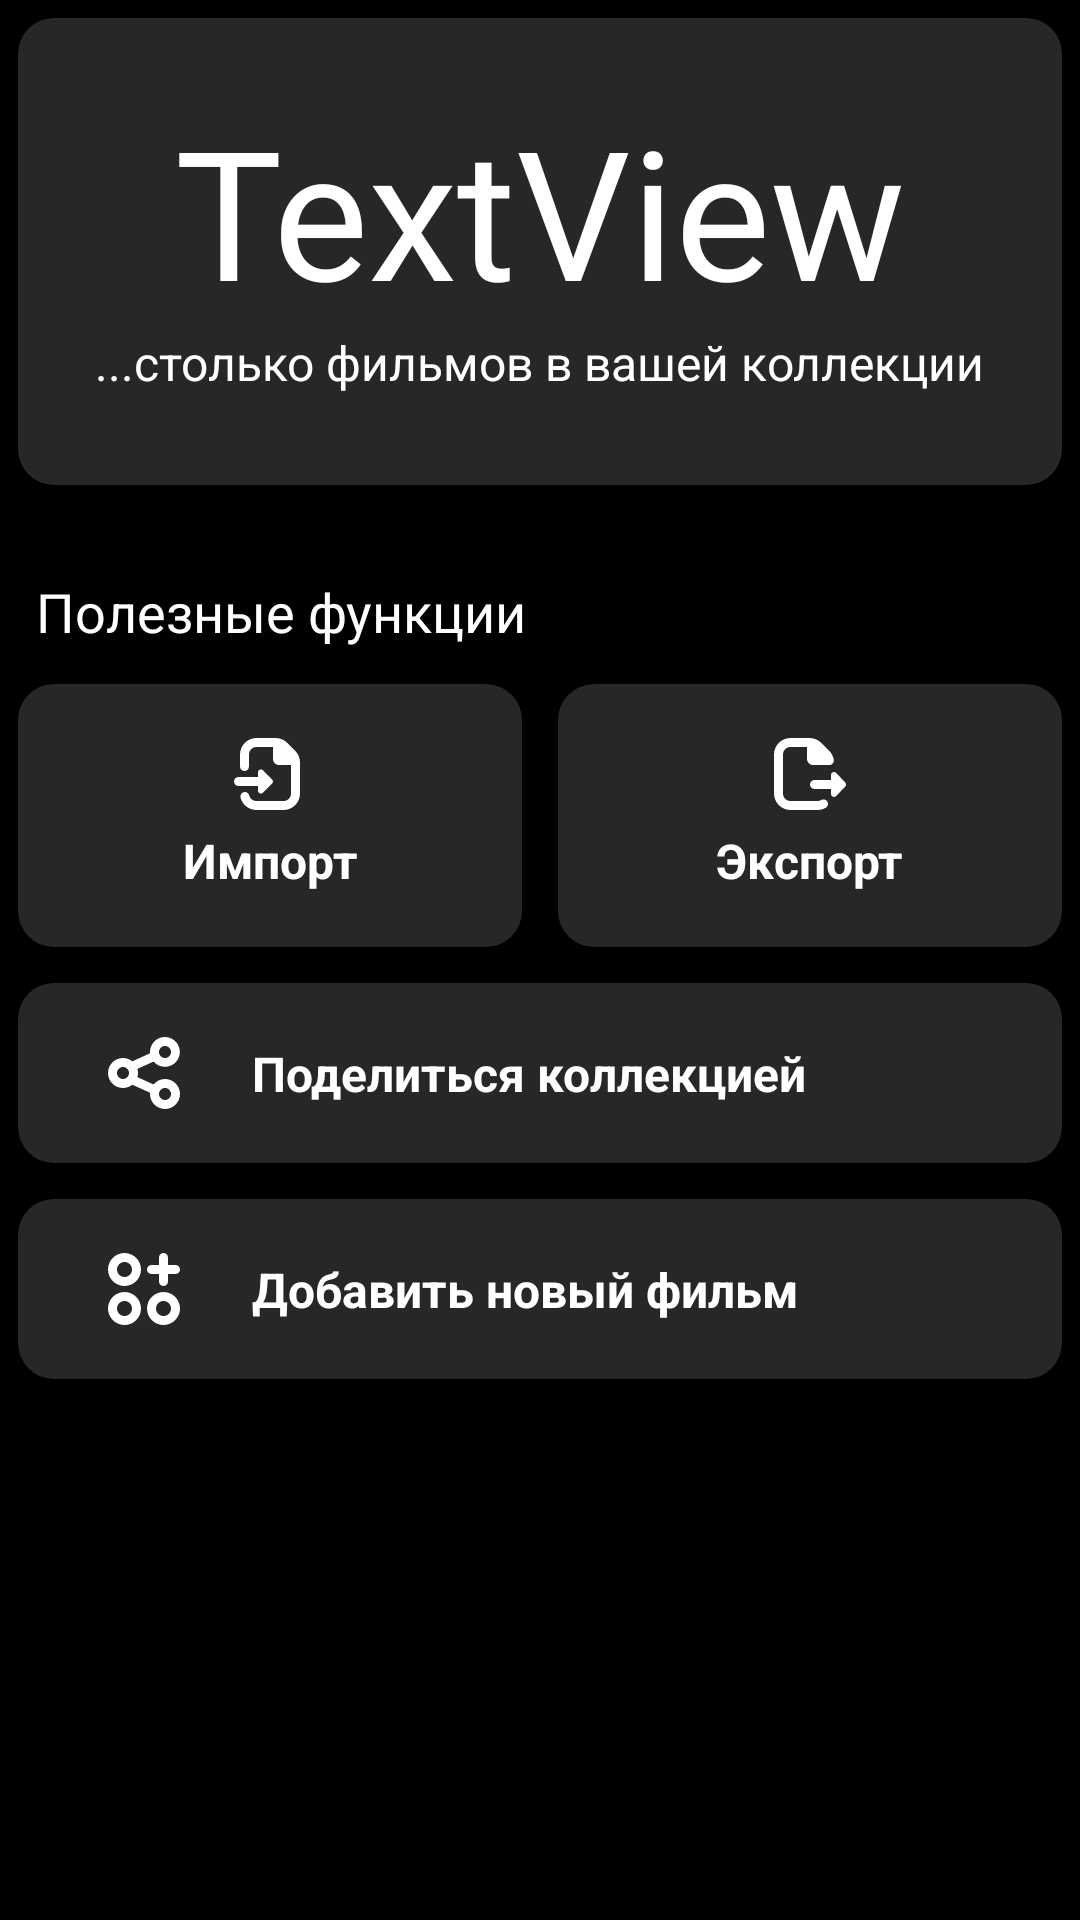

Where to tap for icons on this 1080px x 1920px app screen, as (x,y):
apps add: (144,1289)
share all: (144,1073)
